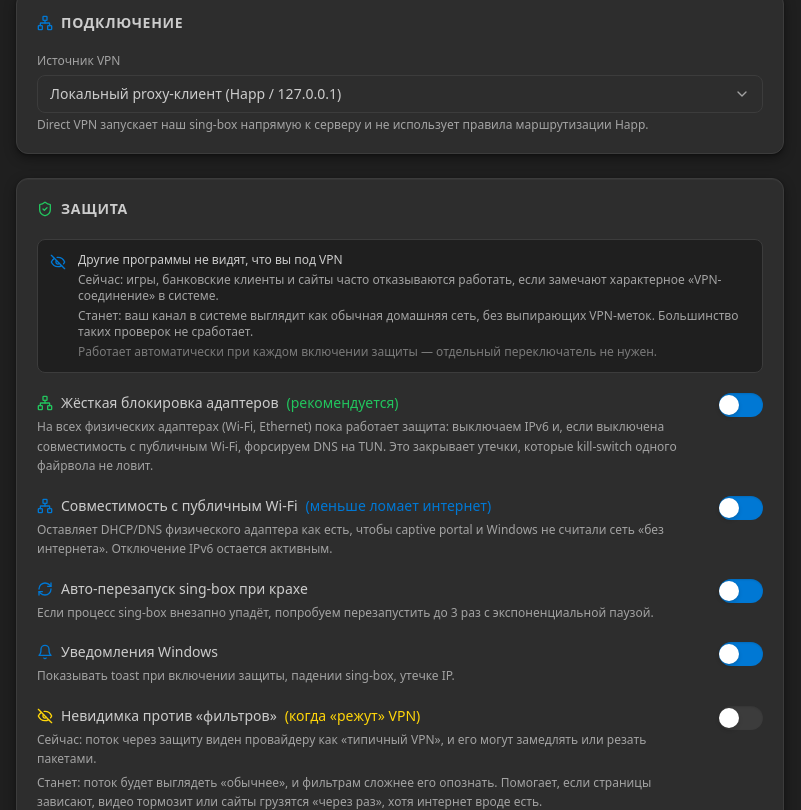
Test: <Settings/> save bar › appears after toggling a switch, and Reset restores the control + hides it
(page scrolled)
Click the switch in the row of "Жёсткая блокировка адаптеров" at (741, 405), box [719,393,763,417]
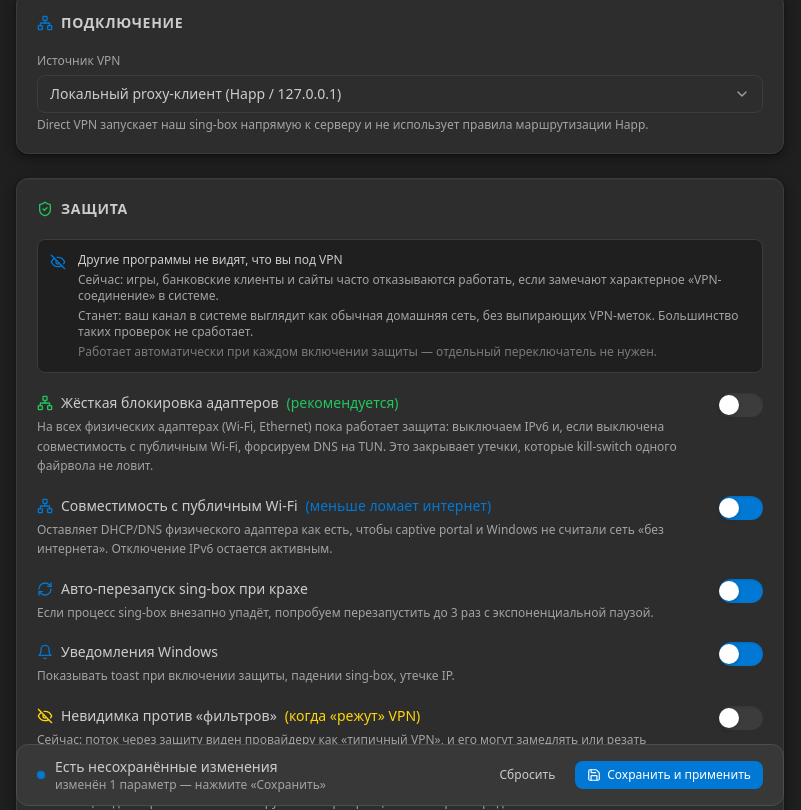
Expected: the text "Есть несохранённые изменения" is shown, [55,757,278,776]
Click the button with aria-label "Сбросить несохранённые изменения" at (527, 775), box [488,761,567,789]
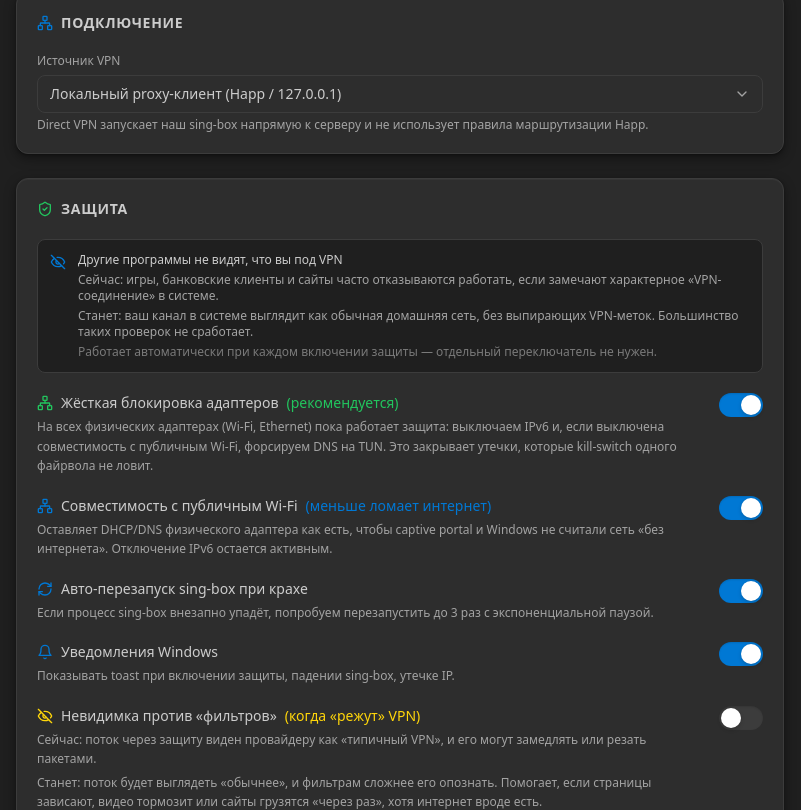
Expected: the text "Есть несохранённые изменения" is gone
